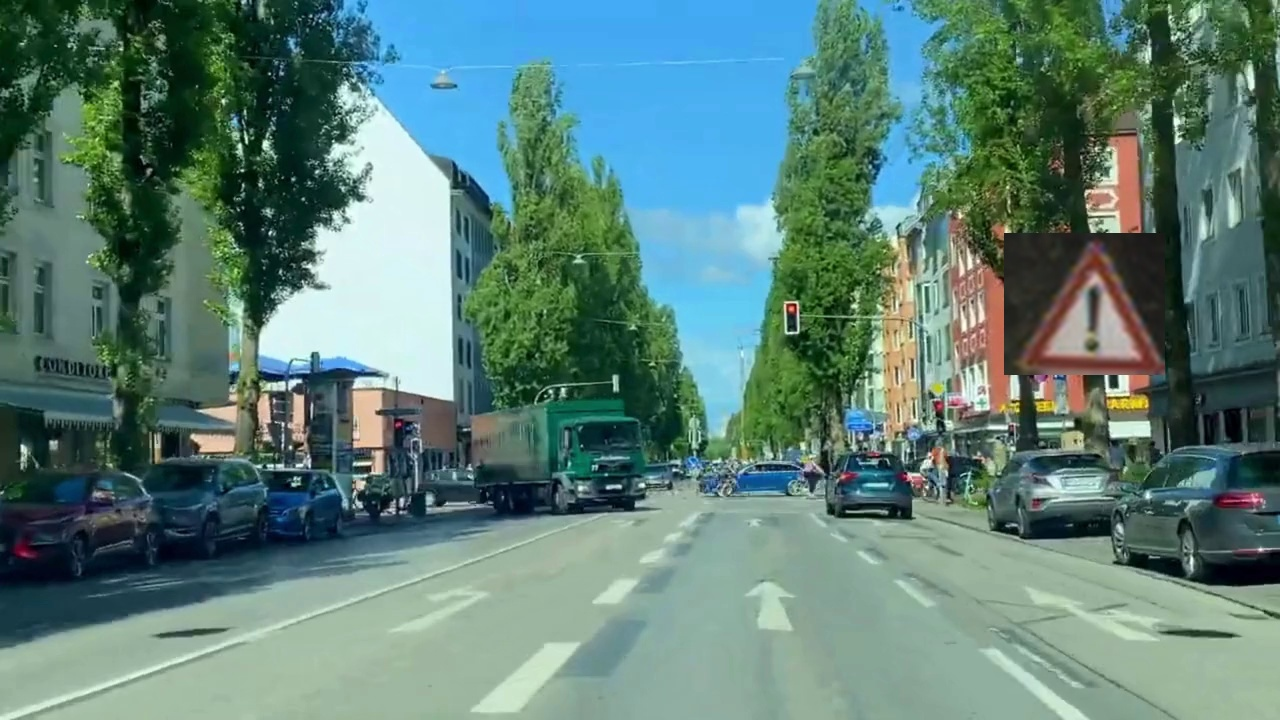Caution: (1004, 233, 1165, 375)
